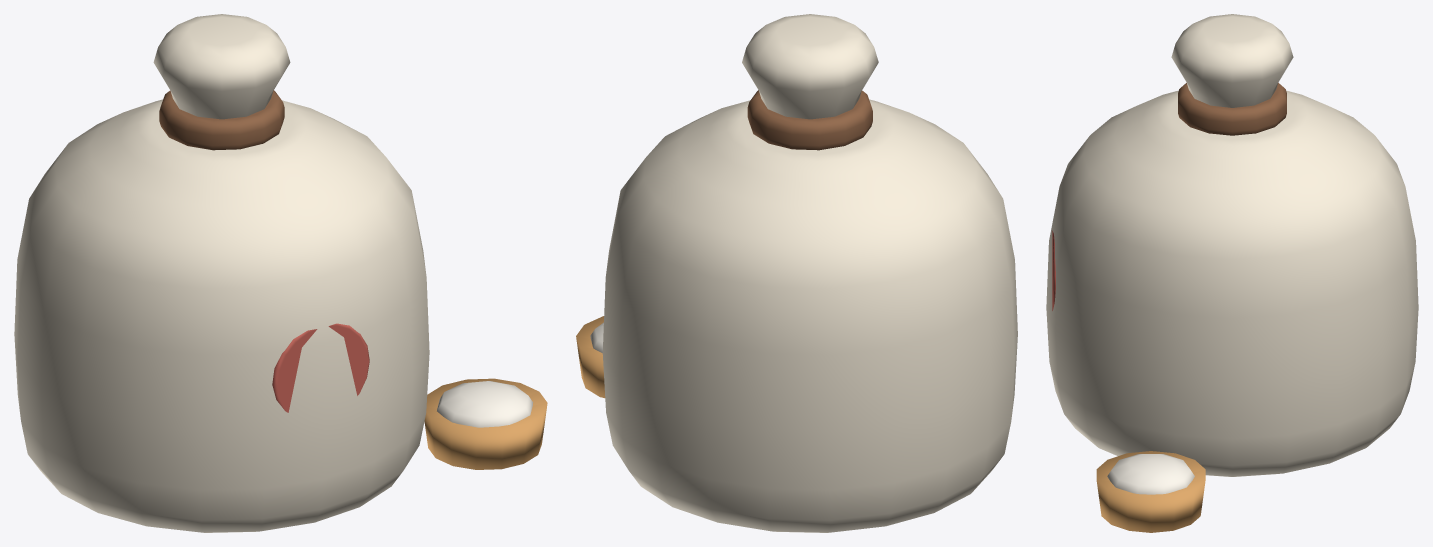
File: kitchen_rice_sack.glb
3 renders of one model, left to right at view 1: azimuth 30°, elevation 25°; view 2: azimuth 150°, elevation 25°; view 3: azimuth 270°, elevation 25°, orthographic. The views are drawn at different scales.
Visible parts, largest first — view 1: kitchen_rice_sack_mesh; view 2: kitchen_rice_sack_mesh; view 3: kitchen_rice_sack_mesh.
Part boxes in pixels (x1=…): kitchen_rice_sack_mesh: x1=14, y1=14, x2=547, y2=532; kitchen_rice_sack_mesh: x1=576, y1=14, x2=1017, y2=532; kitchen_rice_sack_mesh: x1=1046, y1=14, x2=1418, y2=532.
Size of the model in its own units: 0.458 by 0.4244 by 0.3659.
